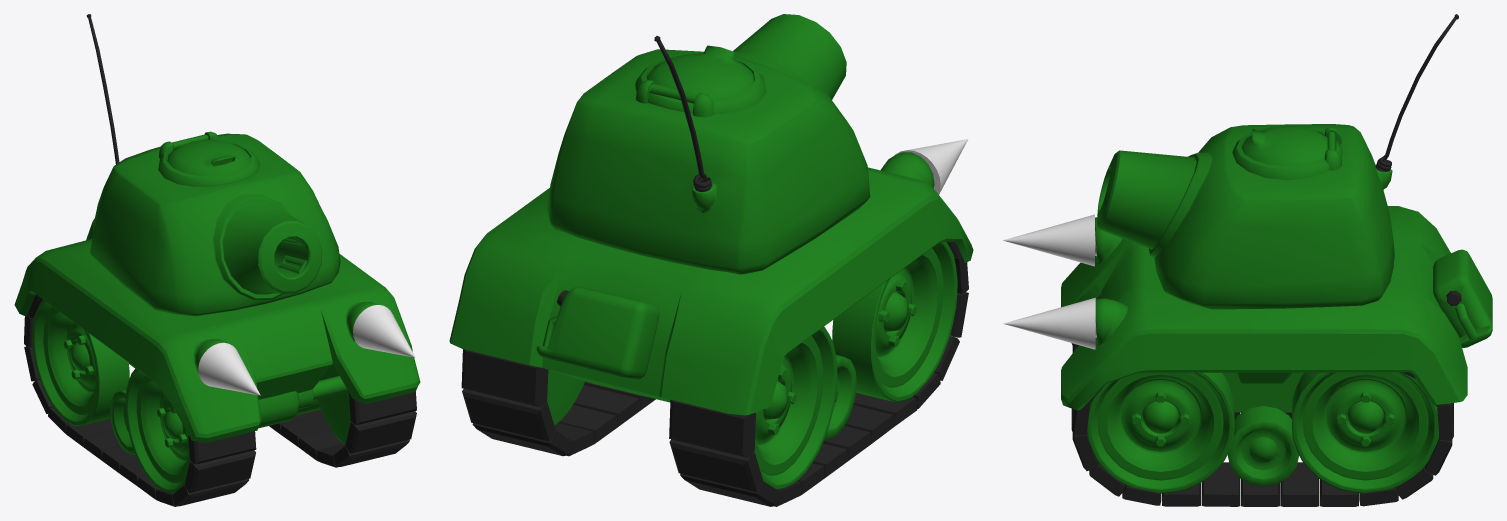
The model's file is MerTank.FBX.
3 views of the same model, side by side, from view 1: azimuth 30°, elevation 25°; view 2: azimuth 150°, elevation 25°; view 3: azimuth 270°, elevation 25° (orthographic). The views are drawn at different scales.
Parts seen in each view (by area): view 1: TankChassis, TankTurret, TankTracksRight, TankTracksLeft, Cone001, Cone002; view 2: TankChassis, TankTurret, TankTracksRight, TankTracksLeft, Cone001; view 3: TankChassis, TankTurret, TankTracksLeft, Cone002, Cone001.
Boxes of the visible parts, <box> form: TankChassis: <box>14,218,420,454</box>; TankTurret: <box>86,14,340,316</box>; TankTracksRight: <box>24,294,256,506</box>; TankTracksLeft: <box>269,364,416,467</box>; Cone001: <box>198,342,260,395</box>; Cone002: <box>353,305,415,357</box>; TankChassis: <box>449,152,973,439</box>; TankTurret: <box>547,14,870,274</box>; TankTracksRight: <box>669,241,968,506</box>; TankTracksLeft: <box>461,349,655,456</box>; Cone001: <box>894,139,968,194</box>; TankChassis: <box>1061,206,1492,485</box>; TankTurret: <box>1097,14,1458,309</box>; TankTracksLeft: <box>1071,372,1453,506</box>; Cone002: <box>1003,297,1095,349</box>; Cone001: <box>1002,214,1094,266</box>.
Bounding box in the file's own units: 67 × 97.91 × 106.
